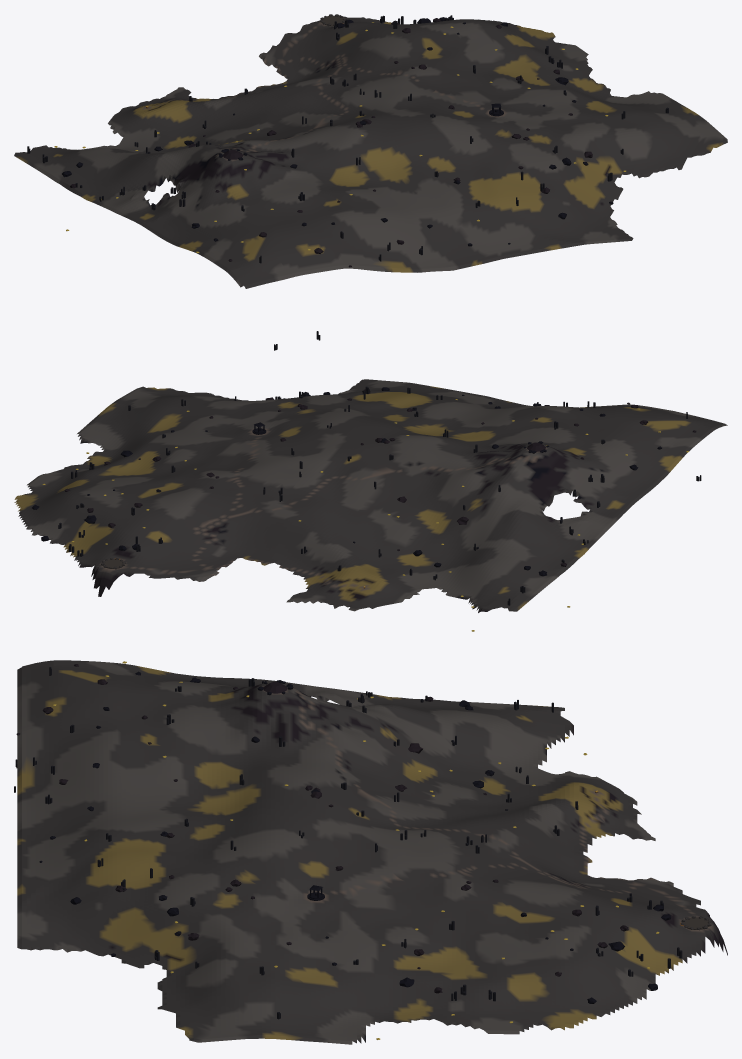
The model's file is ash_isl_vent.glb.
3 views of the same model, one above another, from view 1: azimuth 30°, elevation 25°; view 2: azimuth 150°, elevation 25°; view 3: azimuth 270°, elevation 25° (orthographic). The views are drawn at different scales.
Parts seen in each view (by area): view 1: geometry_0; view 2: geometry_0; view 3: geometry_0.
Boxes of the visible parts, x1,y1,x2,y2 form: geometry_0: [14, 14, 727, 350]; geometry_0: [14, 379, 727, 631]; geometry_0: [14, 660, 727, 1044].
Bounding box in the file's own units: 341 × 59.43 × 316.
